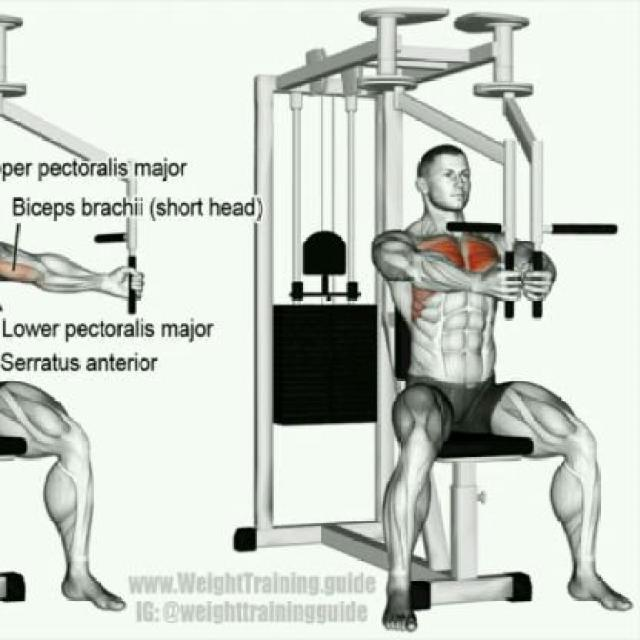chest fly machine: (227, 4, 640, 638)
